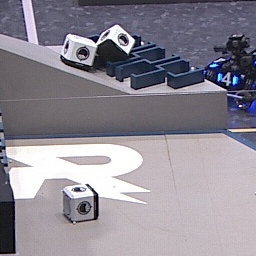Blue: (215, 71, 239, 87)
Robot: (197, 34, 256, 109)
